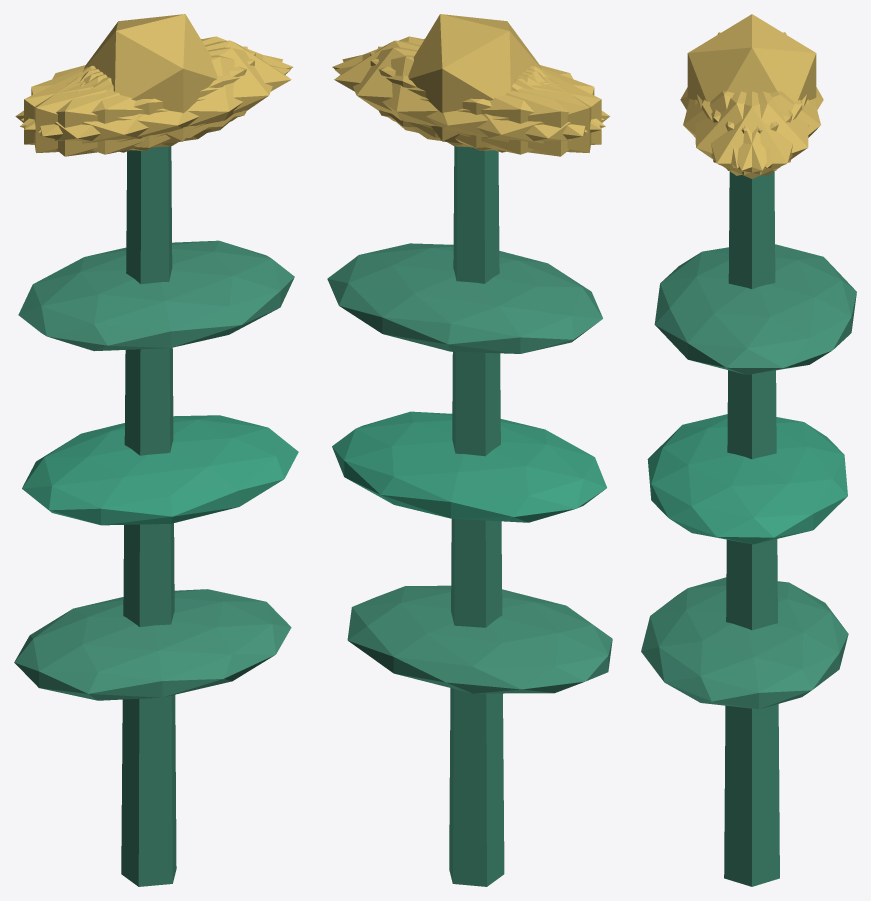
The model's file is xanthostemon-chrysanthus.glb.
The picture shows the model from 3 angles, left to right: view 1: azimuth 30°, elevation 25°; view 2: azimuth 150°, elevation 25°; view 3: azimuth 270°, elevation 25°; orthographic projection.
Parts seen in each view (by area): view 1: stem, leaf0, leaf1, leaf2, center, petal1, petal6, petal2, petal5, petal7, petal0, petal4 (+2 smaller); view 2: stem, leaf2, leaf1, leaf0, center, petal8, petal3, petal7, petal4, petal2, petal0, petal5 (+2 smaller); view 3: stem, leaf2, leaf1, leaf0, center, petal0, petal5, petal4, petal8, petal1.
Boxes of the visible parts, bbox=[...] form: stem: bbox=[121, 146, 176, 886]; leaf0: bbox=[14, 589, 291, 700]; leaf1: bbox=[22, 415, 298, 525]; leaf2: bbox=[18, 240, 294, 351]; center: bbox=[84, 14, 217, 143]; petal1: bbox=[20, 55, 290, 154]; petal6: bbox=[15, 67, 211, 156]; petal2: bbox=[34, 46, 247, 152]; petal5: bbox=[38, 47, 282, 147]; petal7: bbox=[24, 52, 255, 150]; petal0: bbox=[83, 40, 291, 138]; petal4: bbox=[21, 36, 292, 129]; stem: bbox=[449, 146, 504, 886]; leaf2: bbox=[327, 243, 602, 353]; leaf1: bbox=[332, 411, 606, 522]; leaf0: bbox=[347, 585, 612, 693]; center: bbox=[408, 14, 541, 143]; petal8: bbox=[335, 55, 605, 154]; petal3: bbox=[414, 67, 609, 156]; petal7: bbox=[377, 46, 591, 152]; petal4: bbox=[342, 47, 587, 147]; petal2: bbox=[370, 52, 601, 150]; petal0: bbox=[334, 40, 541, 138]; petal5: bbox=[332, 36, 604, 129]; stem: bbox=[724, 171, 779, 886]; leaf2: bbox=[654, 244, 856, 374]; leaf1: bbox=[647, 414, 847, 544]; leaf0: bbox=[641, 577, 848, 709]; center: bbox=[687, 14, 816, 101]; petal0: bbox=[697, 91, 807, 178]; petal5: bbox=[695, 91, 802, 175]; petal4: bbox=[702, 91, 808, 175]; petal8: bbox=[711, 91, 820, 168]; petal1: bbox=[683, 91, 792, 168].
Bounding box in the file's own units: 0.1452 × 0.4437 × 0.1029.
